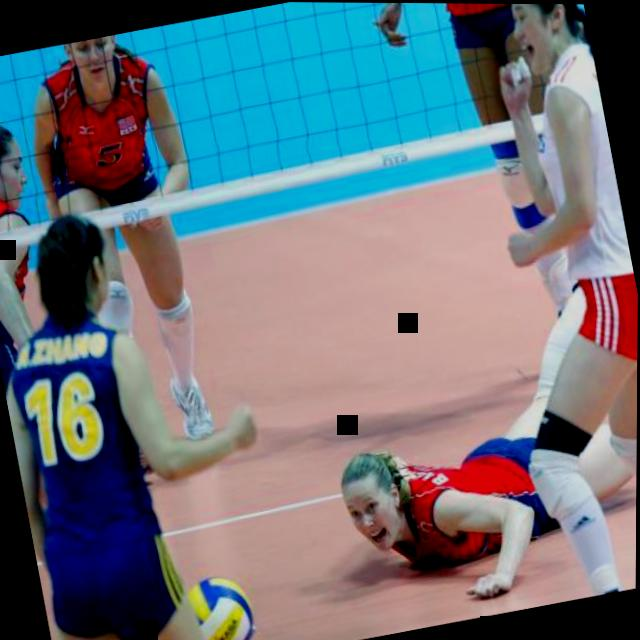Fall-Detected: (310, 362, 638, 637)
